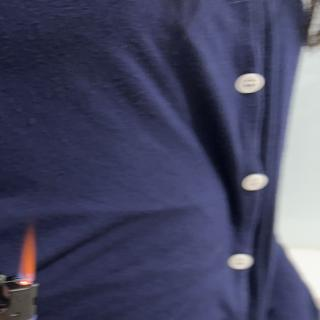fire: (18, 224, 36, 286)
